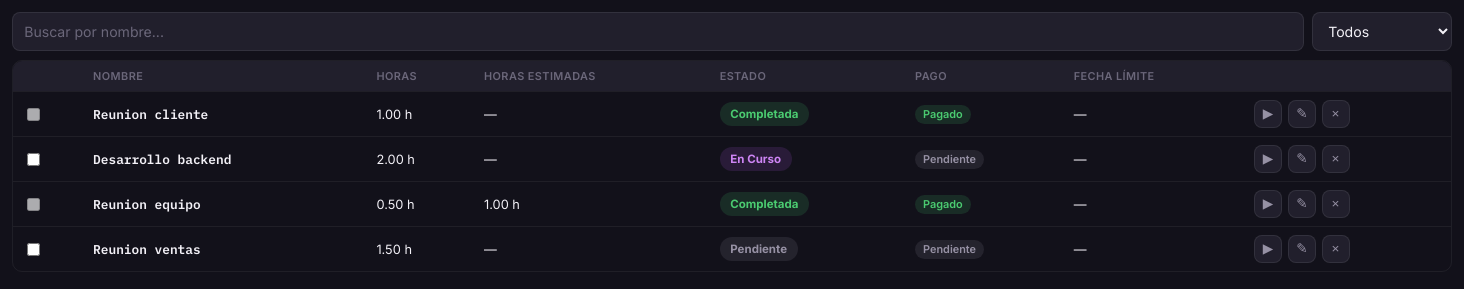
Test case: TareasTable: filtrado combinado › el buscador por nombre filtra sin importar el estado de pago
expect the button "Reunion cliente" is shown: met, box [93,106,208,123]
Type "reunion" into the search field with placeholder "Buscar por nombre..." at (658, 31), box [12,12,1304,51]
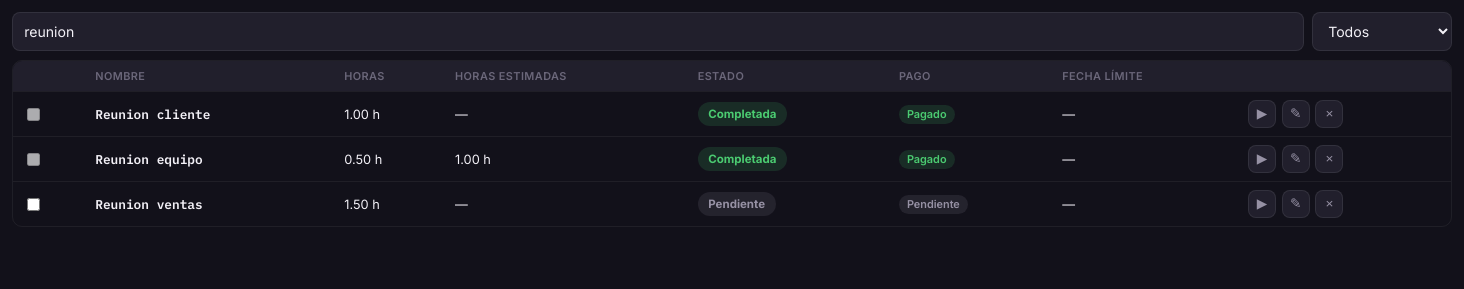
expect the button "Reunion cliente" is shown: met, box [95,106,210,123]
expect the button "Desarrollo backend" is gone: met
